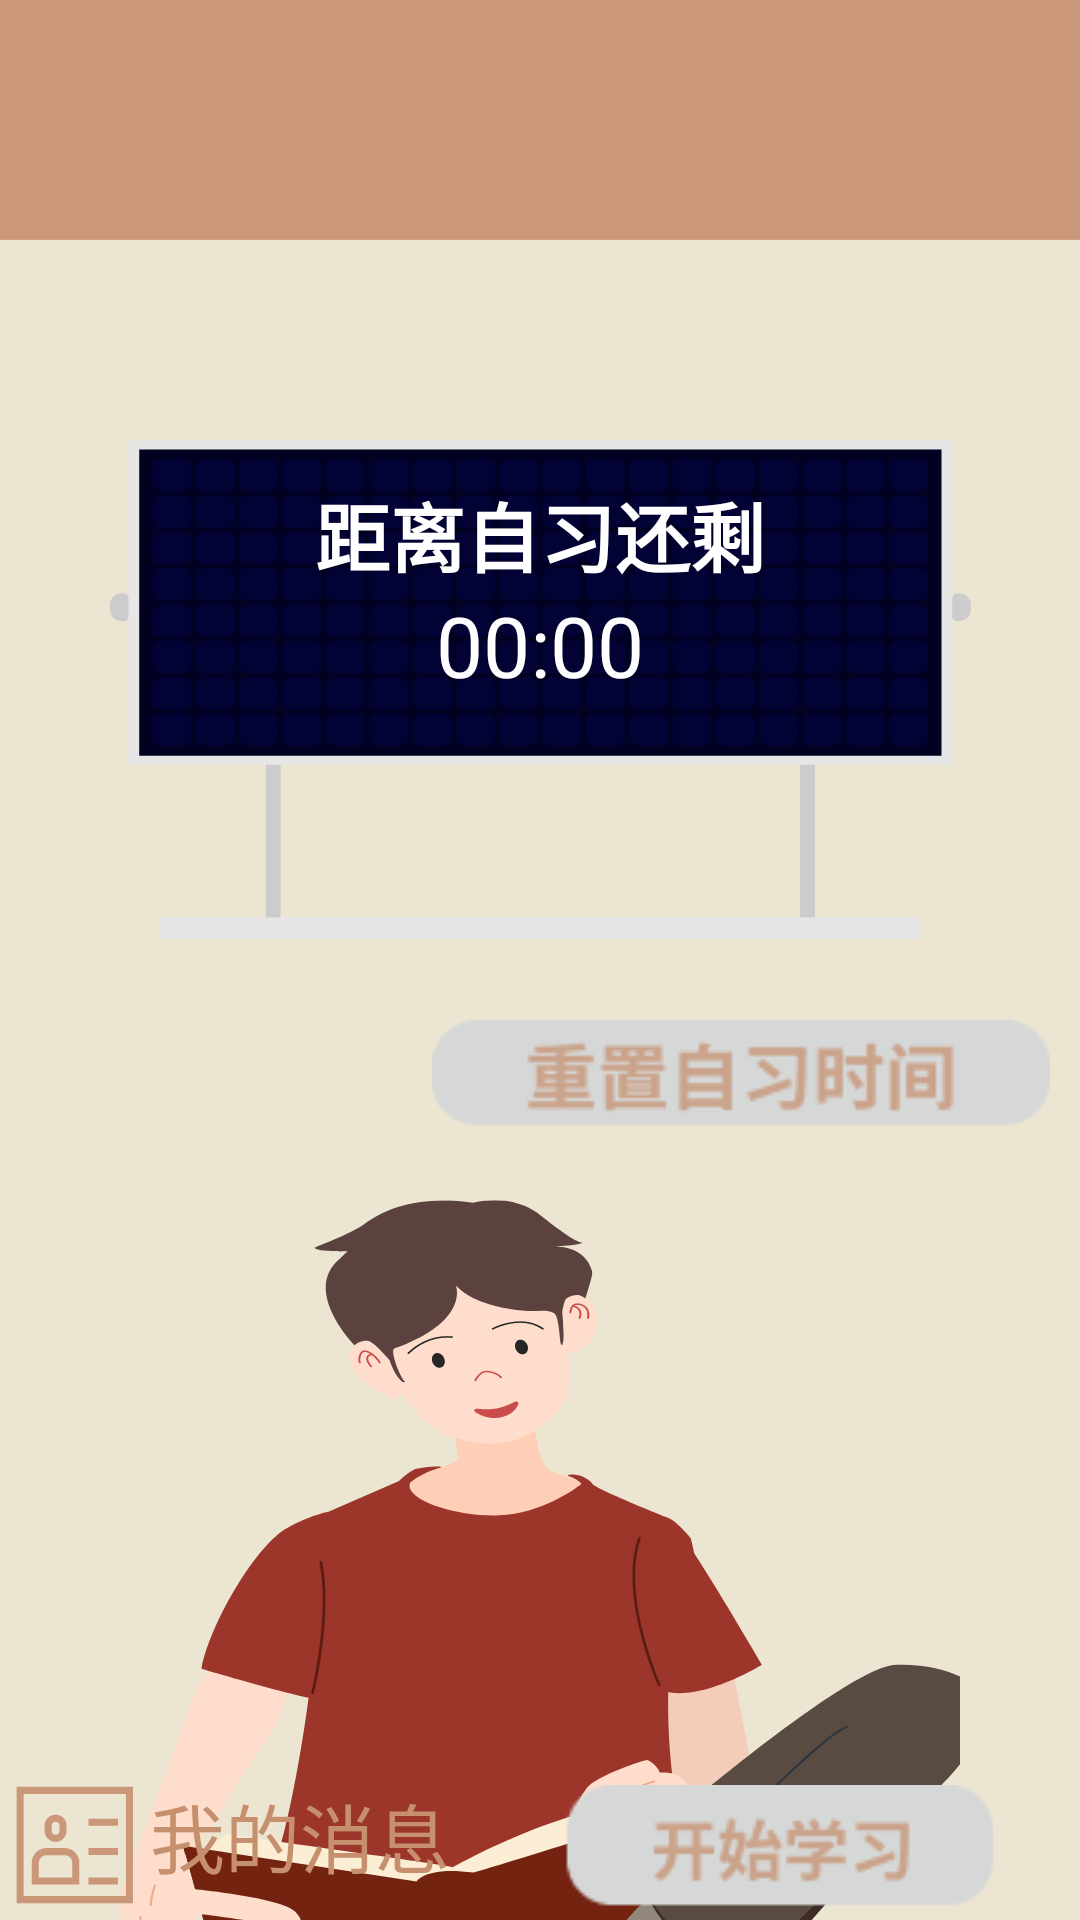

Point at icon controls on the screen. Image size 1080px×1920px, points as (x,y).
minemessage: (79,1853)
